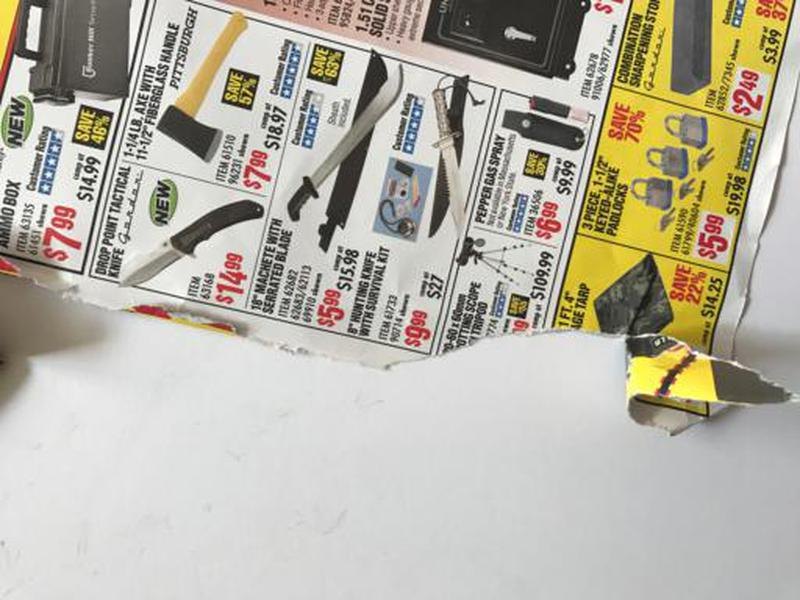paper: (1, 1, 799, 449)
